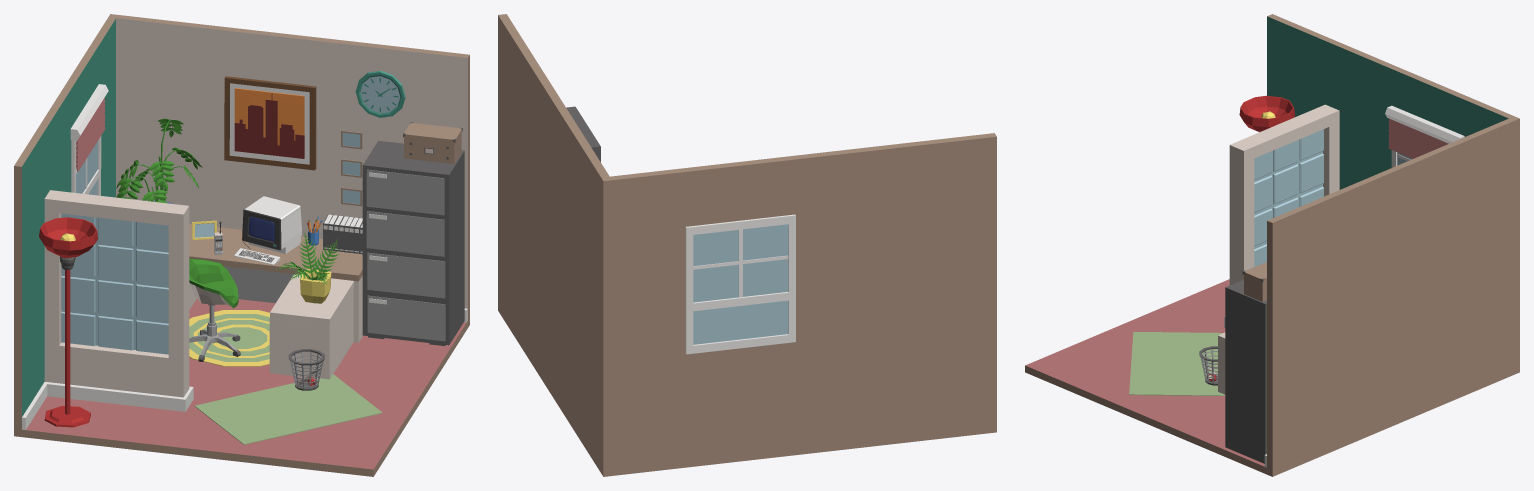
File: Room_8_Office.fbx
3 views of the same model, side by side, from view 1: azimuth 30°, elevation 25°; view 2: azimuth 150°, elevation 25°; view 3: azimuth 270°, elevation 25° (orthographic). The views are drawn at different scales.
Parts seen in each view (by area): view 1: Room_8_Base, Room_8_Wall_of_Glass, Room_8_Shelf, Room_8_Table, Room_8_Picture_1, Room_8_Carpet_1, Room_8_Lamp, Room_8_Carpet_2, Room_8_Computer, Room_8_Chair, Room_8_Flower_Palm, Room_8_Plinth (+8 smaller); view 2: Room_8_Base, Room_8_Window, Room_8_Shelf; view 3: Room_8_Base, Room_8_Wall_of_Glass, Room_8_Shelf, Room_8_Carpet_1, Room_8_Cornice, Room_8_Lamp, Room_8_Storage_Box_2, Room_8_Trashcan_Full.
Boxes of the visible parts, x1=… form: Room_8_Base: x1=14, y1=14, x2=469, y2=476; Room_8_Wall_of_Glass: x1=44, y1=190, x2=189, y2=397; Room_8_Shelf: x1=362, y1=140, x2=464, y2=345; Room_8_Table: x1=189, y1=224, x2=362, y2=379; Room_8_Picture_1: x1=224, y1=76, x2=316, y2=170; Room_8_Carpet_1: x1=194, y1=374, x2=382, y2=444; Room_8_Lamp: x1=39, y1=217, x2=97, y2=427; Room_8_Carpet_2: x1=189, y1=310, x2=269, y2=366; Room_8_Computer: x1=242, y1=196, x2=301, y2=253; Room_8_Chair: x1=189, y1=258, x2=240, y2=361; Room_8_Flower_Palm: x1=116, y1=118, x2=202, y2=203; Room_8_Plinth: x1=47, y1=382, x2=193, y2=411; Room_8_Base: x1=498, y1=14, x2=996, y2=476; Room_8_Window: x1=685, y1=214, x2=795, y2=354; Room_8_Shelf: x1=566, y1=106, x2=600, y2=161; Room_8_Base: x1=1025, y1=14, x2=1519, y2=476; Room_8_Wall_of_Glass: x1=1229, y1=104, x2=1339, y2=285; Room_8_Shelf: x1=1225, y1=279, x2=1266, y2=463; Room_8_Carpet_1: x1=1129, y1=332, x2=1225, y2=395; Room_8_Cornice: x1=1385, y1=105, x2=1464, y2=158; Room_8_Lamp: x1=1239, y1=95, x2=1294, y2=132; Room_8_Storage_Box_2: x1=1242, y1=262, x2=1266, y2=301; Room_8_Trashcan_Full: x1=1199, y1=346, x2=1217, y2=385.
Bounding box in the file's own units: 707 × 707 × 401.
